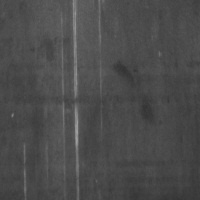scratches: (68, 1, 85, 197)
